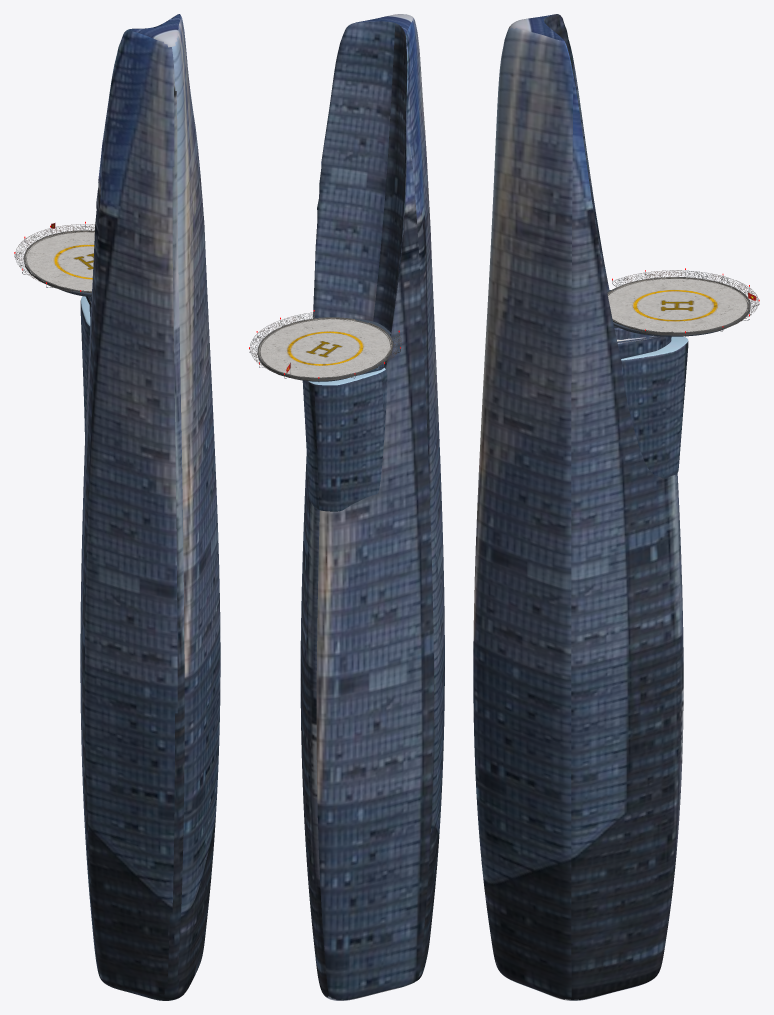
The model's file is bitexco2.glb.
3 renders of one model, left to right at view 1: azimuth 30°, elevation 25°; view 2: azimuth 150°, elevation 25°; view 3: azimuth 270°, elevation 25°, orthographic.
Visible parts, largest first — view 1: Cube_0, Object_13, Object_16; view 2: Cube_0, Object_13, Object_16; view 3: Cube_0, Object_13, Object_16.
Part boxes in pixels (x1,y1,x2,y2): Cube_0: (80,14,220,1000); Object_13: (23,230,94,293); Object_16: (15,224,95,292); Cube_0: (300,14,444,1000); Object_13: (257,317,393,380); Object_16: (250,312,401,379); Cube_0: (473,14,688,1000); Object_13: (607,277,750,335); Object_16: (613,270,758,334).
Bounding box in the file's own units: 12.75 × 83.95 × 22.77.
Materials: 8 (7 with a texture image).
